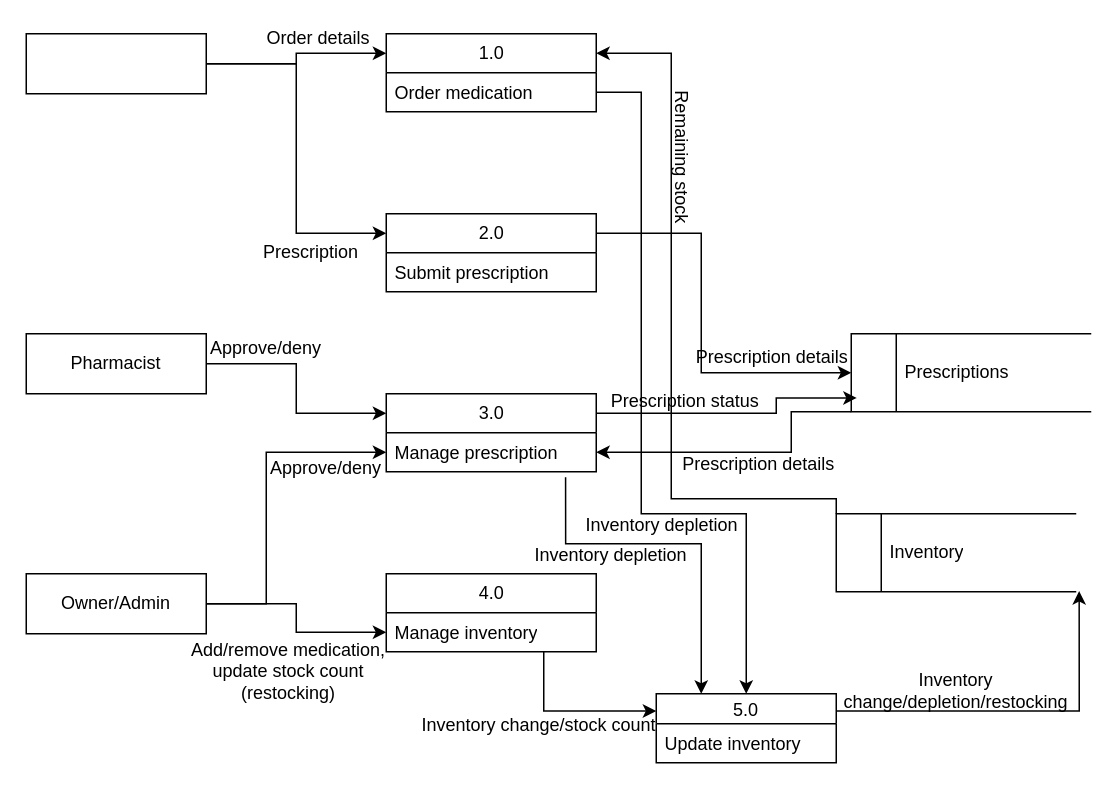
Image size: 1118x792. Some labels were removed from this diagram. Each missing label, with the box of its shape:
Customer: (25, 32, 206, 94)
D1: (850, 332, 1091, 412)
D2: (835, 512, 1076, 592)
